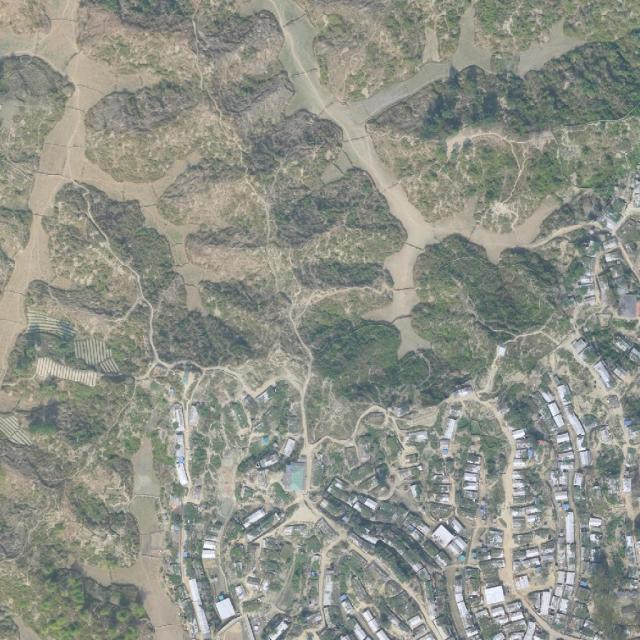building: (502, 429, 588, 625), (594, 235, 640, 324), (555, 381, 596, 468), (444, 574, 485, 640), (426, 438, 458, 503), (170, 402, 190, 486), (455, 450, 483, 502), (214, 598, 237, 622), (241, 508, 266, 529), (542, 389, 561, 416), (600, 431, 613, 444), (201, 548, 215, 559), (203, 540, 216, 550)
